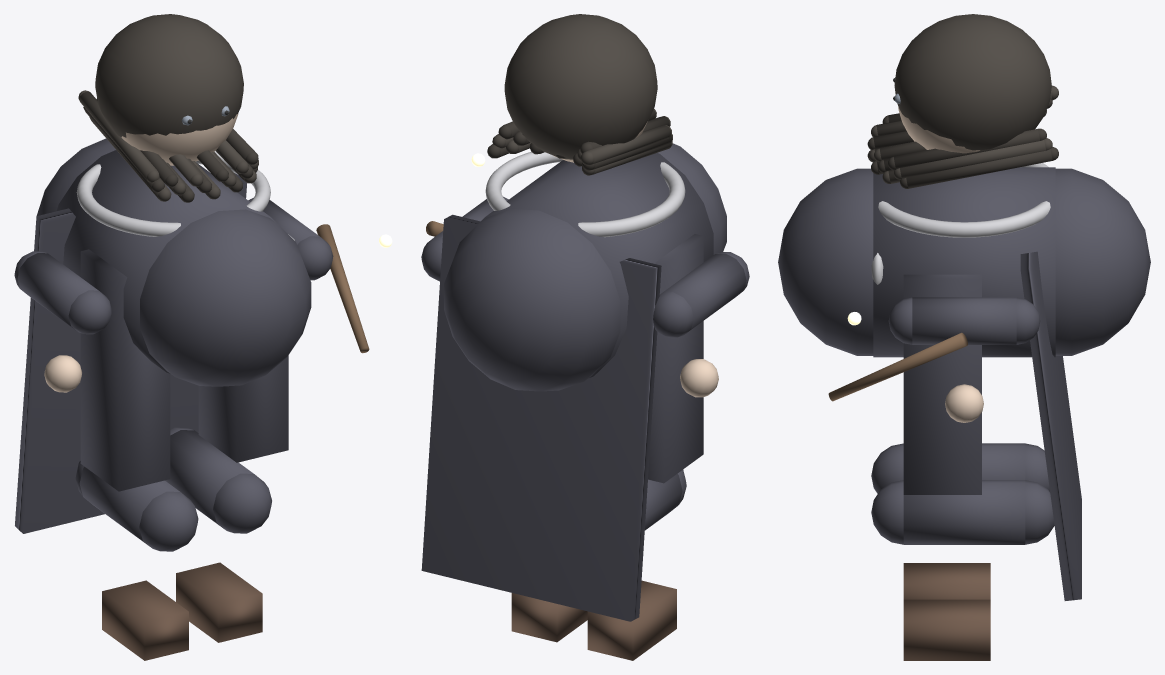
File: sirius.glb
3 views of the same model, side by side, from view 1: azimuth 30°, elevation 25°; view 2: azimuth 150°, elevation 25°; view 3: azimuth 270°, elevation 25° (orthographic). The views are drawn at different scales.
Visible parts, largest first — view 1: torso_top, cloak, crown, robe_panel_l, torso_body, robe_panel_r, boot, boot.001, thigh_body.001, upperL_body, thigh_top.001, thigh_top (+10 smaller); view 2: cloak, torso_bot, crown, torso_body, robe_panel_l, boot, trim, upperL_body, boot.001, torso_top, upperL_bot, thigh_body (+4 smaller); view 3: torso_body, crown, torso_bot, torso_top, robe_panel_r, cloak, thigh_body.001, boot.001, upperR_body, boot, trim, shaft (+12 smaller).
Boxes of the visible parts, x1,y1,x2,y2 form: torso_top: (140, 209, 311, 386); cloak: (15, 173, 246, 533); crown: (95, 14, 243, 137); robe_panel_l: (80, 249, 170, 491); torso_body: (56, 150, 276, 373); robe_panel_r: (198, 355, 288, 462); boot: (102, 580, 188, 660); boot.001: (176, 562, 262, 642); thigh_body.001: (165, 430, 253, 528); upperL_body: (17, 253, 98, 329); thigh_top.001: (213, 473, 271, 533); thigh_top: (139, 491, 198, 551); cloak: (421, 214, 661, 621); torso_bot: (444, 209, 620, 391); crown: (504, 14, 657, 159); torso_body: (479, 153, 713, 377); robe_panel_l: (648, 234, 703, 483); boot: (587, 580, 676, 660); trim: (485, 152, 685, 237); upperL_body: (663, 253, 746, 333); boot.001: (511, 593, 587, 642); torso_top: (657, 143, 726, 254); upperL_bot: (653, 292, 693, 337); thigh_body: (644, 474, 682, 530); torso_body: (873, 167, 1055, 357); crown: (894, 14, 1051, 150); torso_bot: (1055, 168, 1150, 355); torso_top: (778, 168, 873, 355); robe_panel_r: (903, 274, 981, 494); cloak: (1020, 251, 1081, 600); thigh_body.001: (903, 480, 1025, 544); boot.001: (903, 599, 990, 660); upperR_body: (912, 297, 1016, 344); boot: (903, 563, 990, 599); trim: (878, 163, 1050, 237); shaft: (828, 332, 967, 401).
Bounding box in the file's own units: 0.7987 × 1.56 × 0.86.
